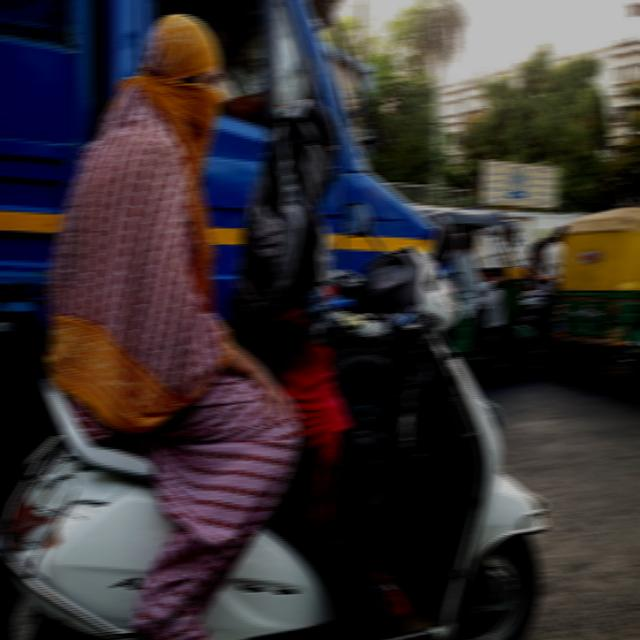Without Helmet: (141, 7, 234, 136), (263, 90, 349, 193)
